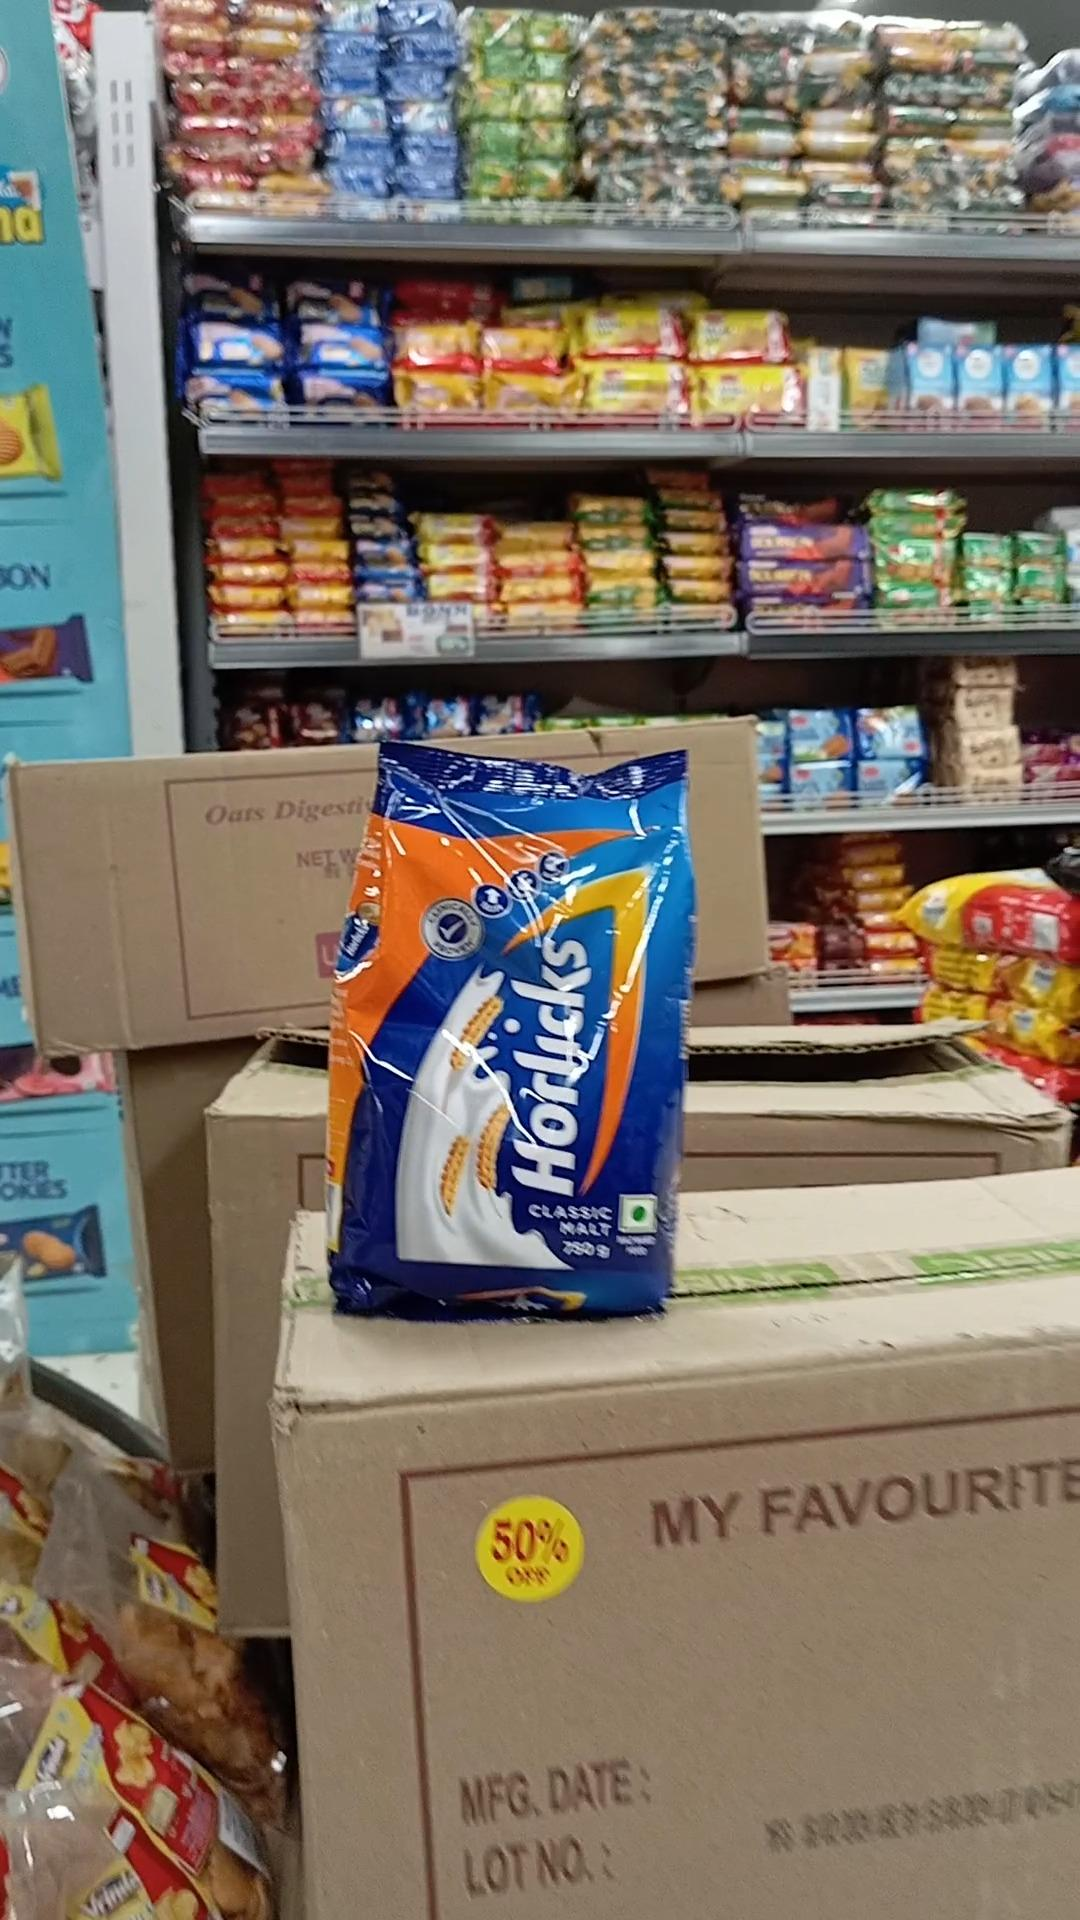HORLICK_CLASSIC_MALT_750_G_POUCH: (345, 729, 682, 1315)
